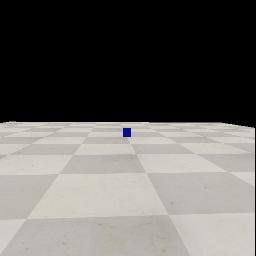box: (123, 128, 131, 137)
